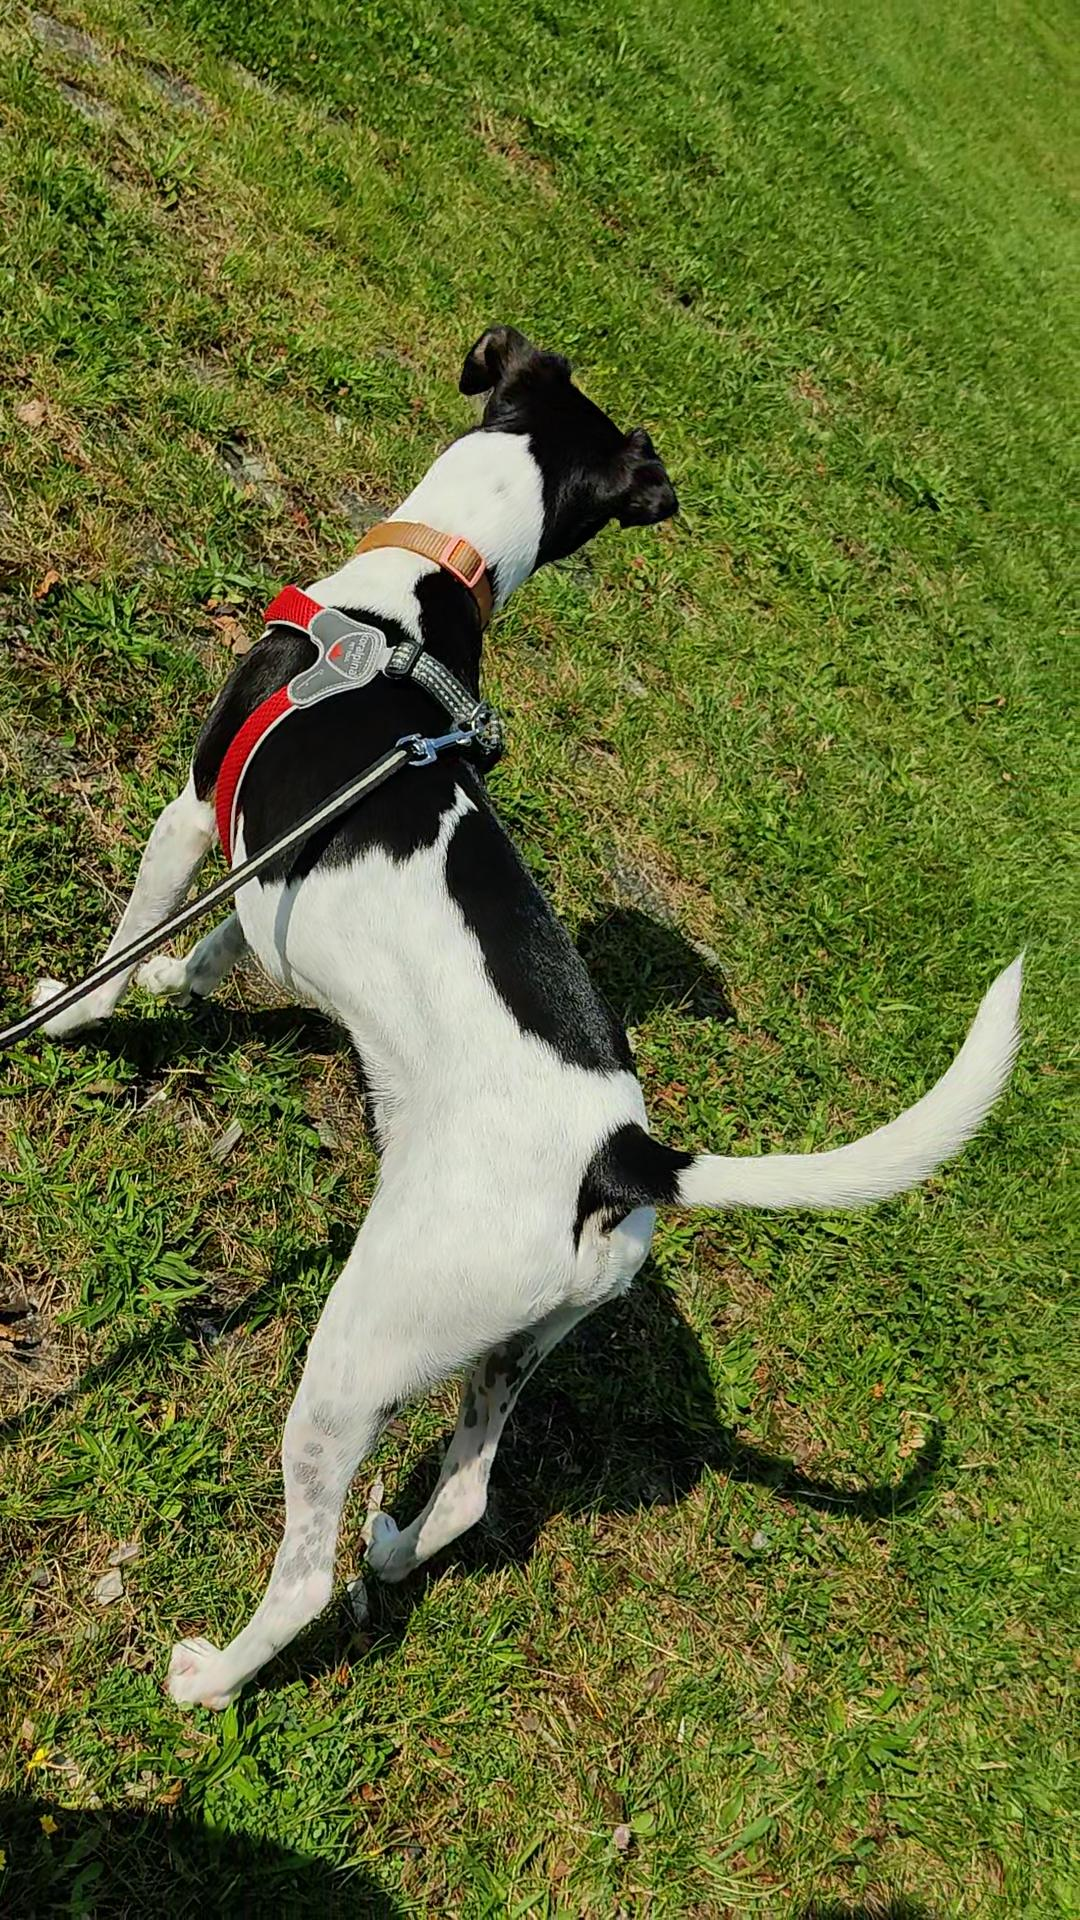Dog: (22, 316, 1027, 1714)
